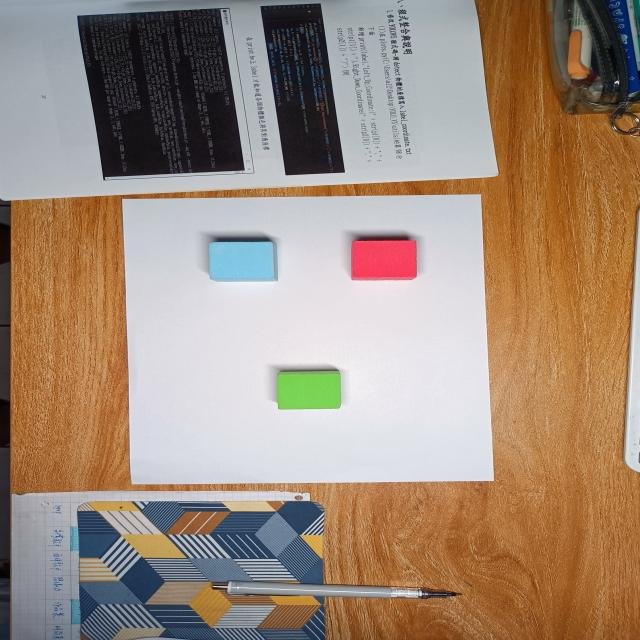BLUE: (209, 242, 278, 282)
GREEN: (278, 370, 341, 410)
RED: (351, 241, 418, 280)
